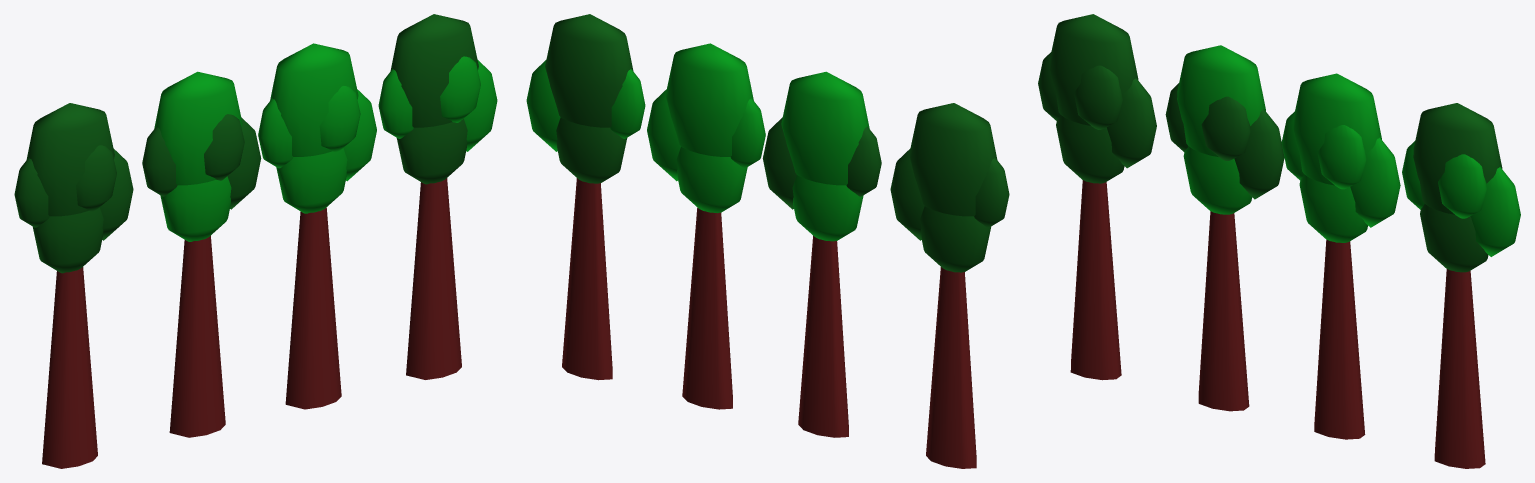
File: trees.fbx
3 renders of one model, left to right at view 1: azimuth 30°, elevation 25°; view 2: azimuth 150°, elevation 25°; view 3: azimuth 330°, elevation 25°, orthographic.
Parts seen in each view (by area): view 1: polySurface7, polySurface1, polySurface13, polySurface19, polySurface3, polySurface15, polySurface21, polySurface9, polySurface14, polySurface2, polySurface20, polySurface8 (+12 smaller); view 2: polySurface13, polySurface19, polySurface7, polySurface1, polySurface3, polySurface15, polySurface21, polySurface9, polySurface14, polySurface2, polySurface20, polySurface8 (+8 smaller); view 3: polySurface1, polySurface7, polySurface19, polySurface13, polySurface15, polySurface21, polySurface3, polySurface9, polySurface20, polySurface14, polySurface2, polySurface8 (+12 smaller).
Boxes of the visible parts, x1,y1,x2,y2 form: polySurface7: (285,207,341,409); polySurface1: (169,235,225,437); polySurface13: (42,267,97,468); polySurface19: (406,178,461,379); polySurface3: (154,71,242,185); polySurface15: (26,103,114,216); polySurface21: (390,14,478,127); polySurface9: (270,43,358,156); polySurface14: (33,207,103,273); polySurface2: (160,176,231,241); polySurface20: (396,118,467,184); polySurface8: (276,148,347,213); polySurface13: (926,267,976,468); polySurface19: (562,178,612,380); polySurface7: (682,207,732,409); polySurface1: (798,235,848,437); polySurface3: (781,71,869,185); polySurface15: (909,103,997,216); polySurface21: (545,14,633,127); polySurface9: (665,43,753,156); polySurface14: (920,206,990,272); polySurface2: (792,175,863,241); polySurface20: (556,117,627,183); polySurface8: (676,147,747,213); polySurface1: (1198,211,1249,411); polySurface7: (1314,239,1365,439); polySurface19: (1434,269,1485,468); polySurface13: (1070,180,1121,380); polySurface15: (1049,14,1138,127); polySurface21: (1413,103,1502,216); polySurface3: (1177,45,1265,156); polySurface9: (1293,73,1381,185); polySurface20: (1420,203,1488,272); polySurface14: (1056,115,1124,183); polySurface2: (1183,146,1251,214); polySurface8: (1299,174,1367,242).
Size of the model in its own units: 28.18 by 20.03 by 3.04.
